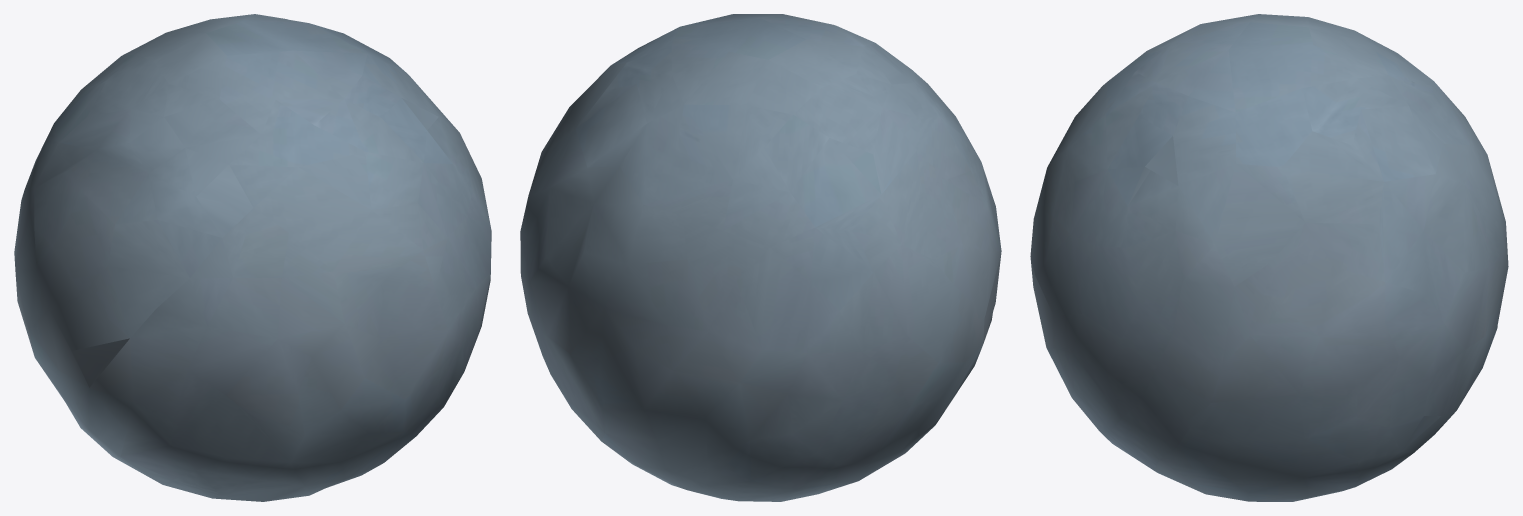
File: bubble.glb
The picture shows the model from 3 angles, left to right: view 1: azimuth 30°, elevation 25°; view 2: azimuth 150°, elevation 25°; view 3: azimuth 270°, elevation 25°; orthographic projection.
Parts seen in each view (by area): view 1: Bubble; view 2: Bubble; view 3: Bubble.
Boxes of the visible parts, box(x1,y1,x2,y2) form: Bubble: box(14, 14, 491, 501); Bubble: box(520, 14, 1001, 501); Bubble: box(1030, 14, 1508, 501).
Size of the model in its own units: 0.9773 by 0.9903 by 0.9777.
Materials: 1 (1 with a texture image).
